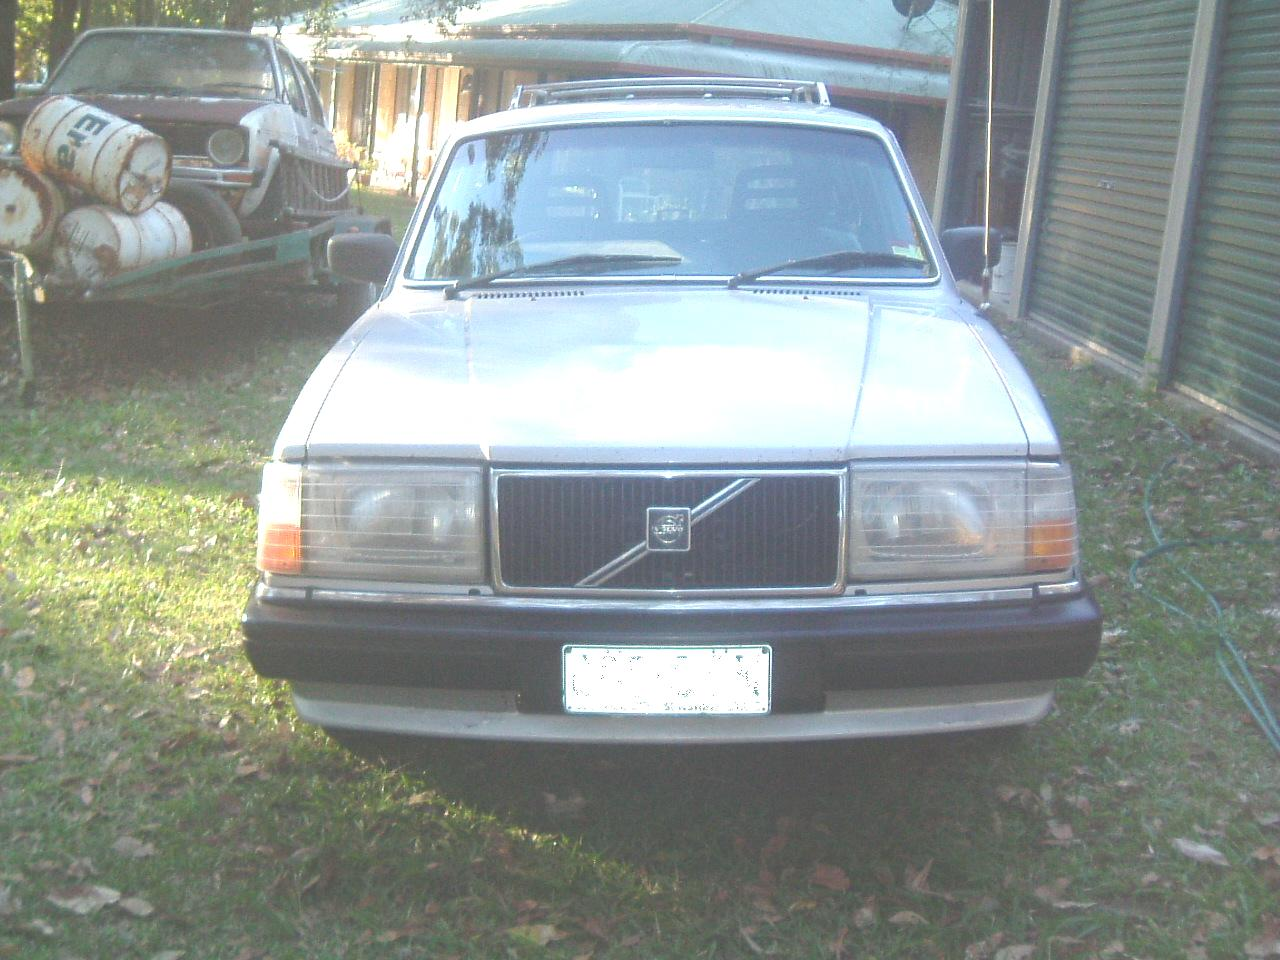volvo: (628, 492, 723, 568)
